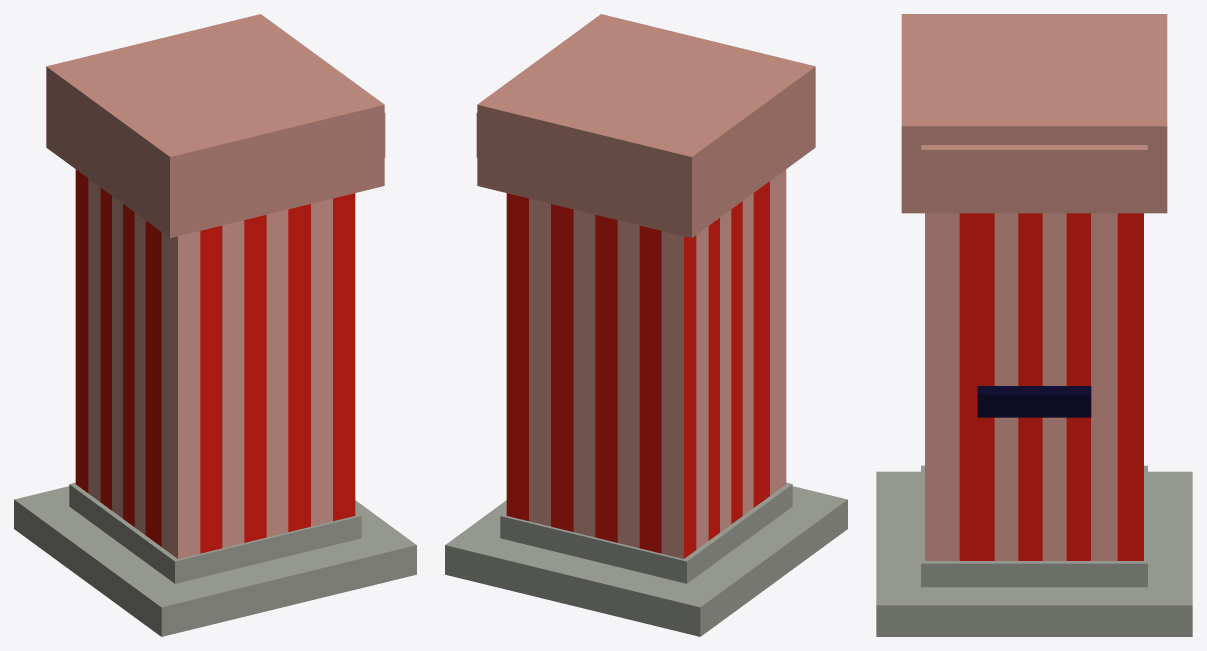
The model's file is касса.fbx.
3 views of the same model, side by side, from view 1: azimuth 30°, elevation 25°; view 2: azimuth 150°, elevation 25°; view 3: azimuth 270°, elevation 25° (orthographic). The views are drawn at different scales.
Parts seen in each view (by area): view 1: Куб.001, Куб.003, Куб; view 2: Куб.001, Куб.003, Куб; view 3: Куб.001, Куб.003, Куб, Куб.002.
Part boxes in pixels (left/top/right/bottom): Куб.001: left=75, top=169, right=355, bottom=558; Куб.003: left=46, top=14, right=385, bottom=238; Куб: left=14, top=482, right=416, bottom=636; Куб.001: left=506, top=169, right=786, bottom=558; Куб.003: left=476, top=14, right=815, bottom=238; Куб: left=445, top=482, right=847, bottom=636; Куб.001: left=925, top=213, right=1143, bottom=560; Куб.003: left=901, top=14, right=1167, bottom=213; Куб: left=876, top=465, right=1192, bottom=636; Куб.002: left=977, top=386, right=1091, bottom=417.
Bounding box in the file's own units: 388 × 677 × 388.
